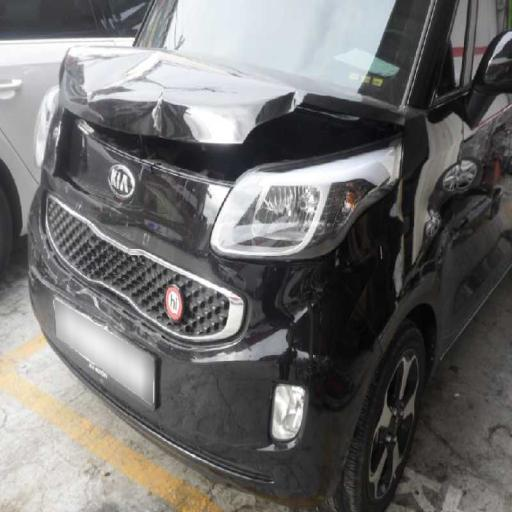dent: (58, 35, 380, 190)
scratch: (31, 234, 258, 433), (271, 242, 375, 400)
